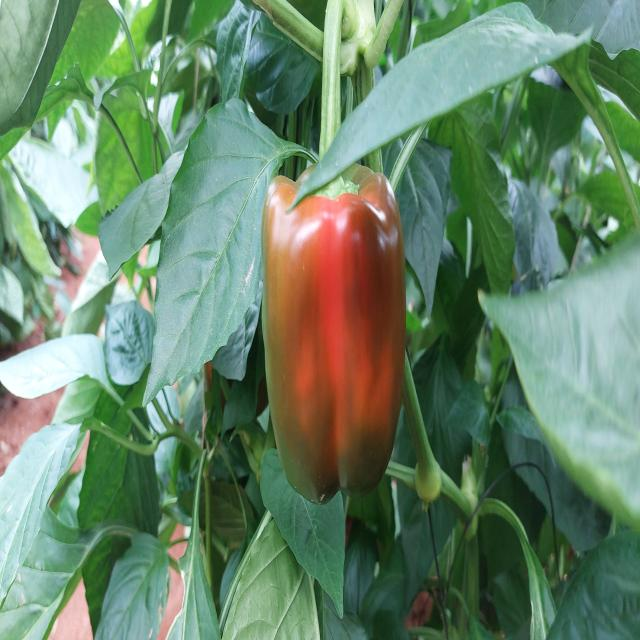BrownishRed--Can-be-Harvested: (262, 180, 408, 499)
